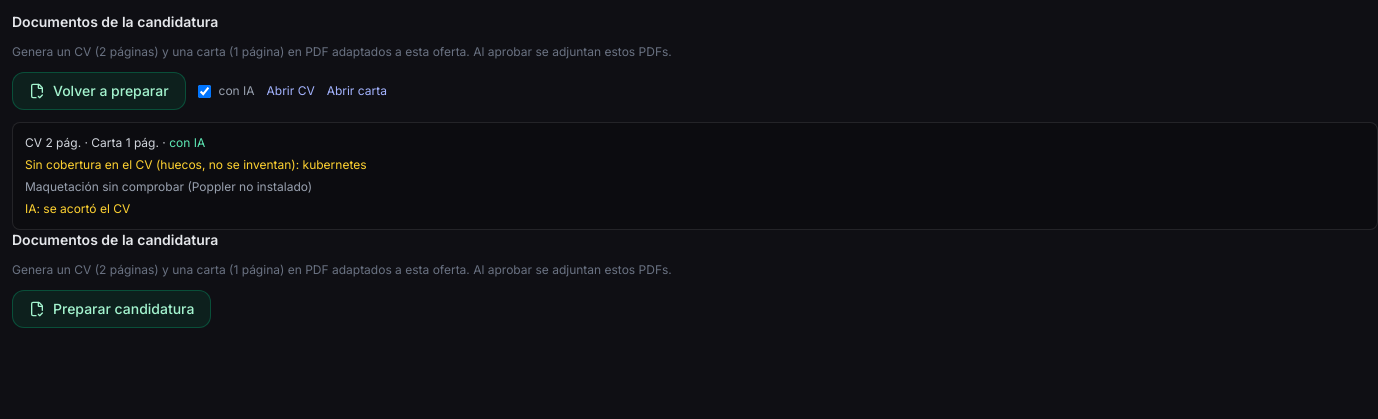
Test case: un 422 enseña los motivos y, si falla una plantilla propia, ofrece reintentar con las integradas
Click the button "Preparar candidatura" at {"x": 112, "y": 309}, box [12,290,211,328]
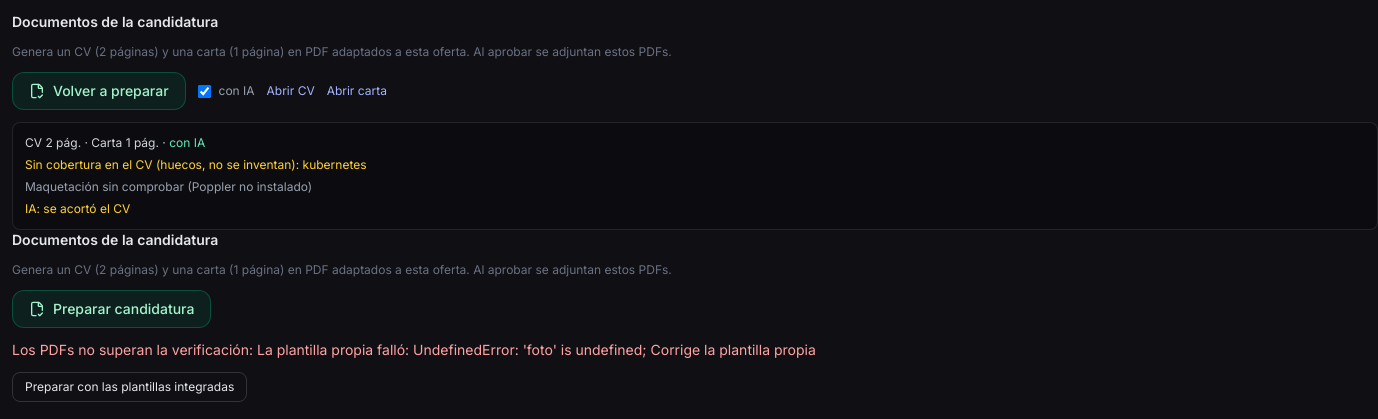
Expected: the message shows "Los PDFs no superan la verificación: La plantilla propia falló: UndefinedError: 'foto' is undefined; Corrige la plantilla propia", [12,341,816,358]
Expected: the button "Preparar con las plantillas integradas" is shown
Click the button "Preparar con las plantillas integradas" at {"x": 130, "y": 387}, box [12,372,247,402]
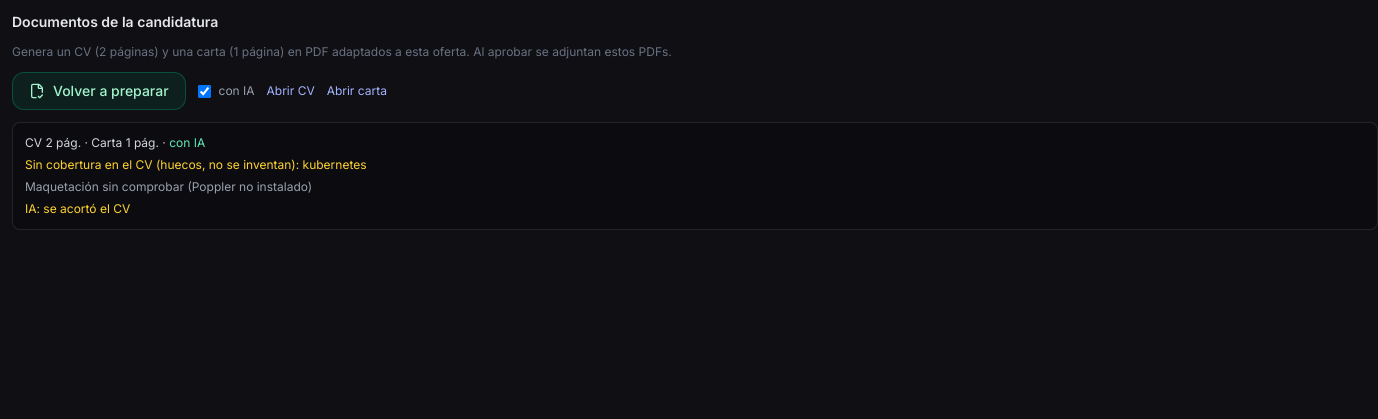
Expected: the message "Los PDFs no superan la verificación: La plantilla propia falló: UndefinedError:" is gone
